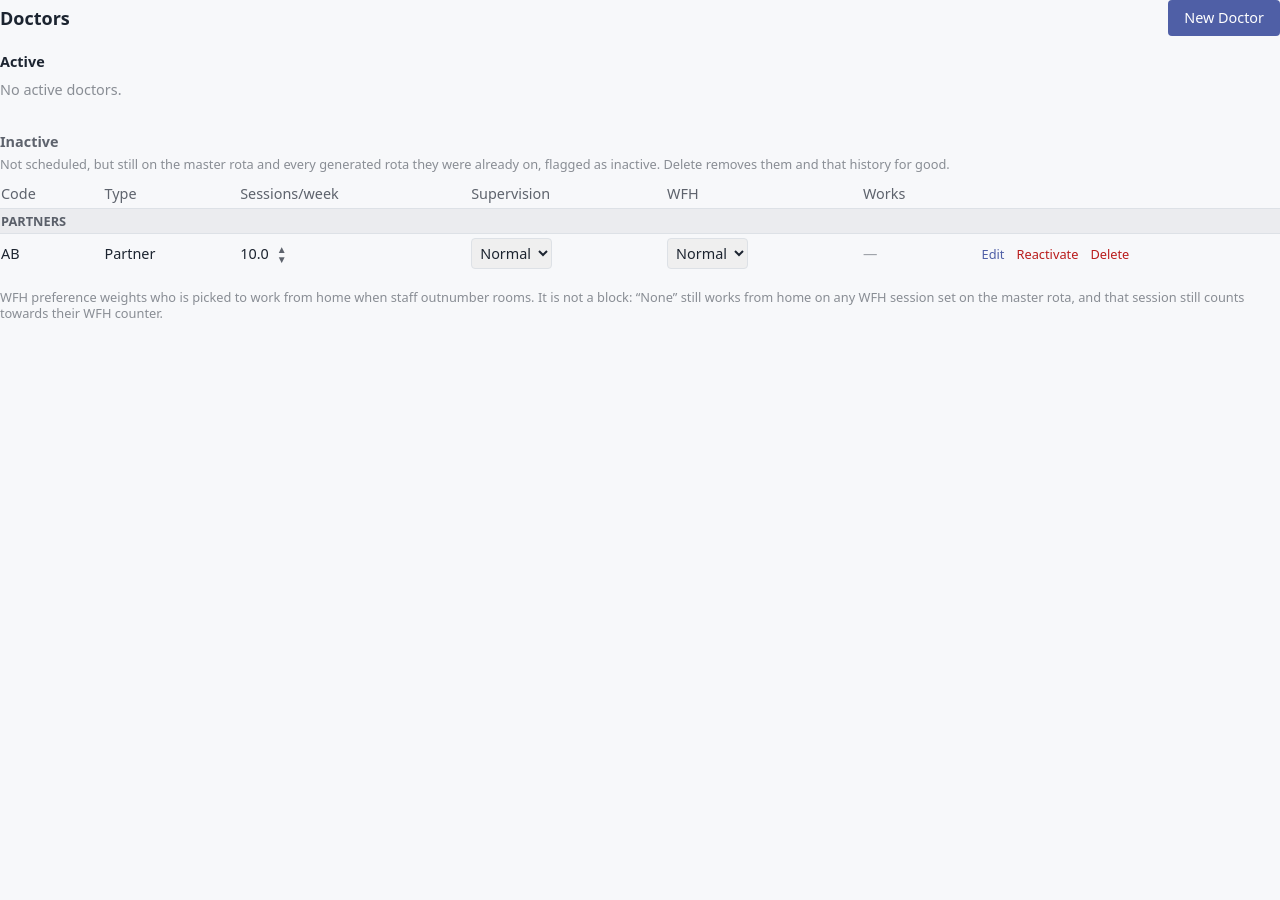
Test case: DoctorsPage › permanent delete › purges the doctor once the code is typed, and the row disappears
Expected: the text "AB" is shown, x1=0 y1=234 x2=104 y2=273
Click the button "Delete" at coordinates (1110, 254), box x1=1090 y1=246 x2=1129 y2=262
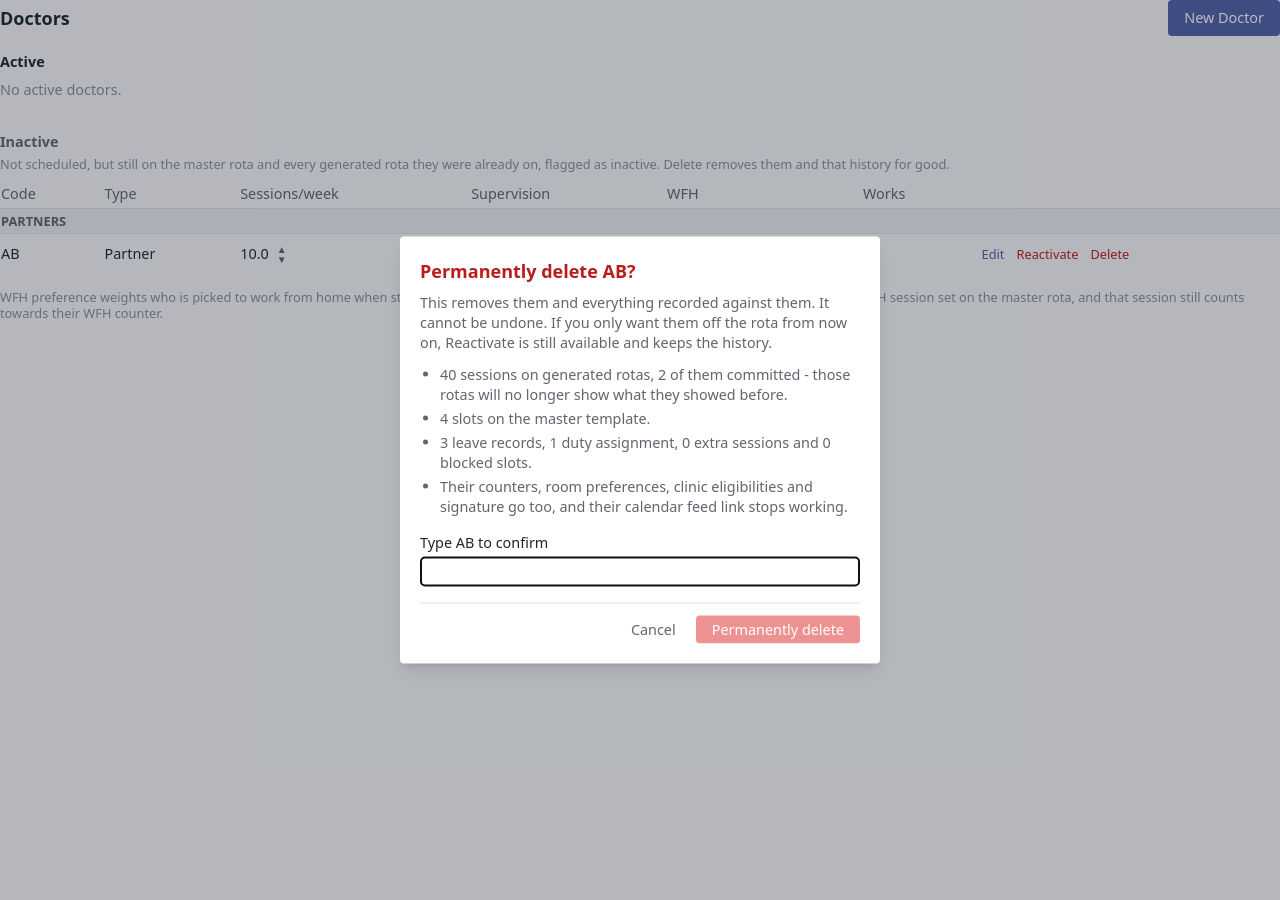
Expected: the button "Permanently delete" is disabled, x1=696 y1=616 x2=860 y2=644
# A near-miss is still disabled: the typed code proves *which* row.
Type "ab" into the field labelled "Type AB to confirm" at coordinates (640, 572), box x1=420 y1=556 x2=860 y2=586
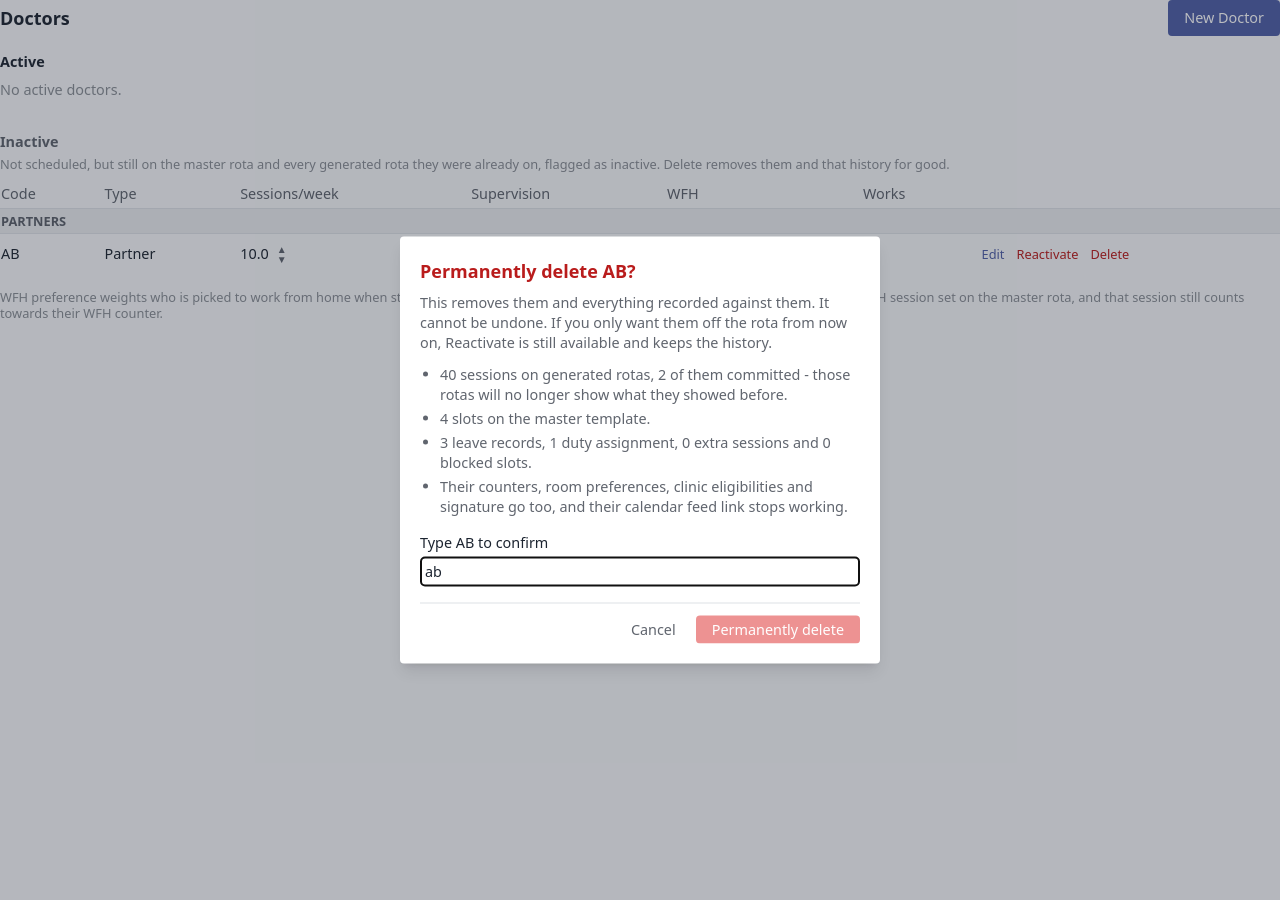
Expected: the button "Permanently delete" is disabled, x1=696 y1=616 x2=860 y2=644
Clear the field labelled "Type AB to confirm" at coordinates (640, 572), box x1=420 y1=556 x2=860 y2=586
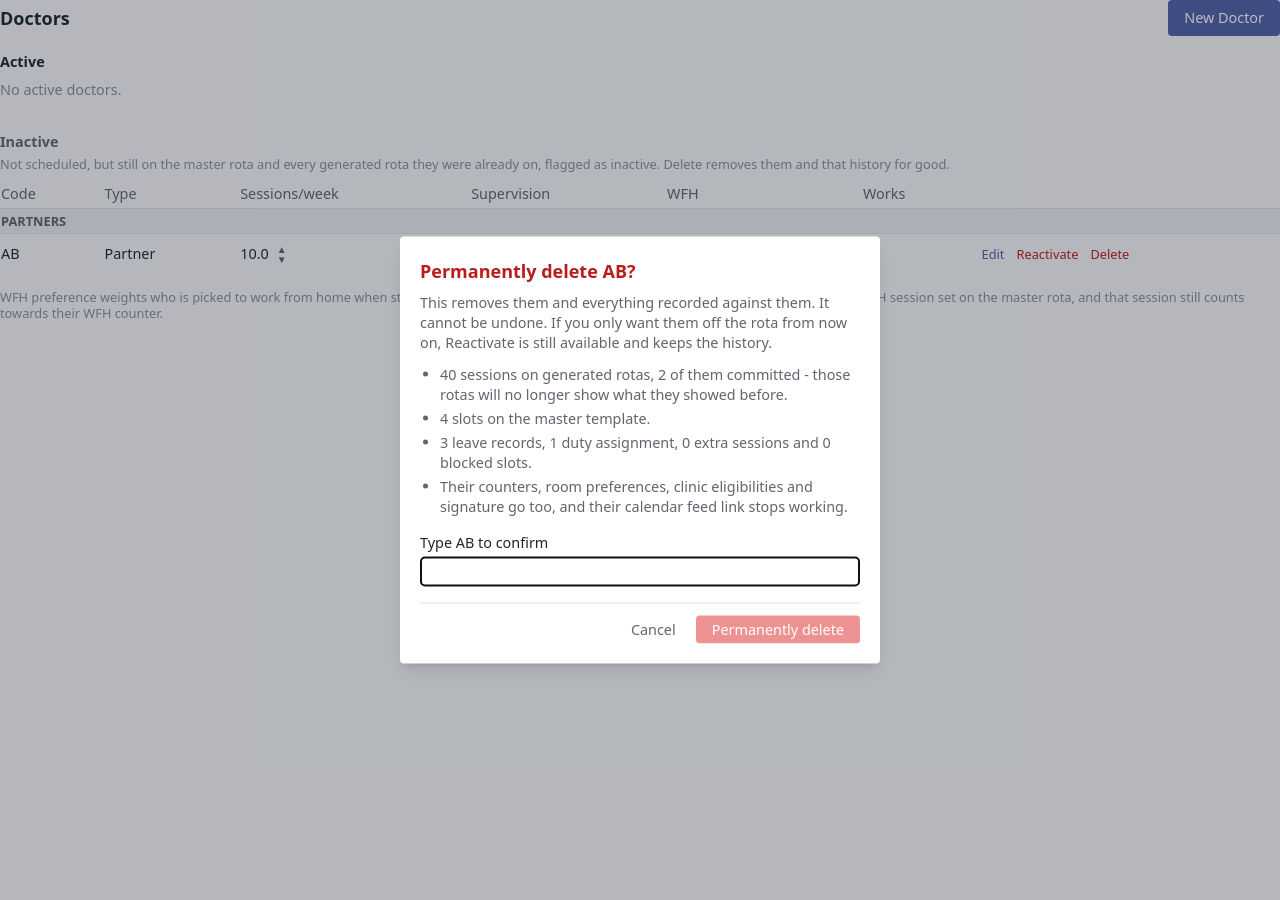
Expected: the list item "2 of them committed" is shown, x1=440 y1=364 x2=860 y2=404
Type "AB" into the field labelled "Type AB to confirm" at coordinates (640, 572), box x1=420 y1=556 x2=860 y2=586
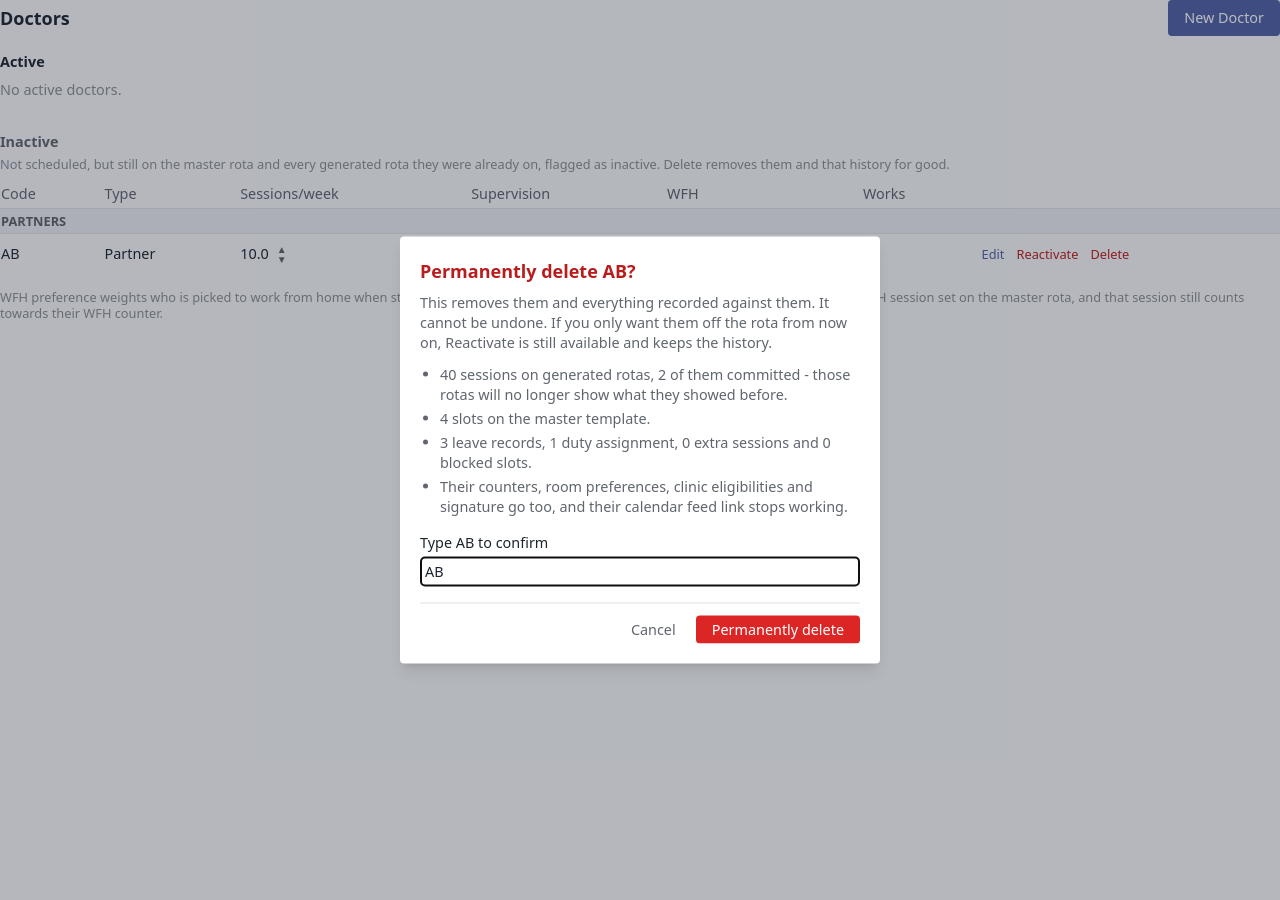
Click the button "Permanently delete" at coordinates (778, 630), box x1=696 y1=616 x2=860 y2=644
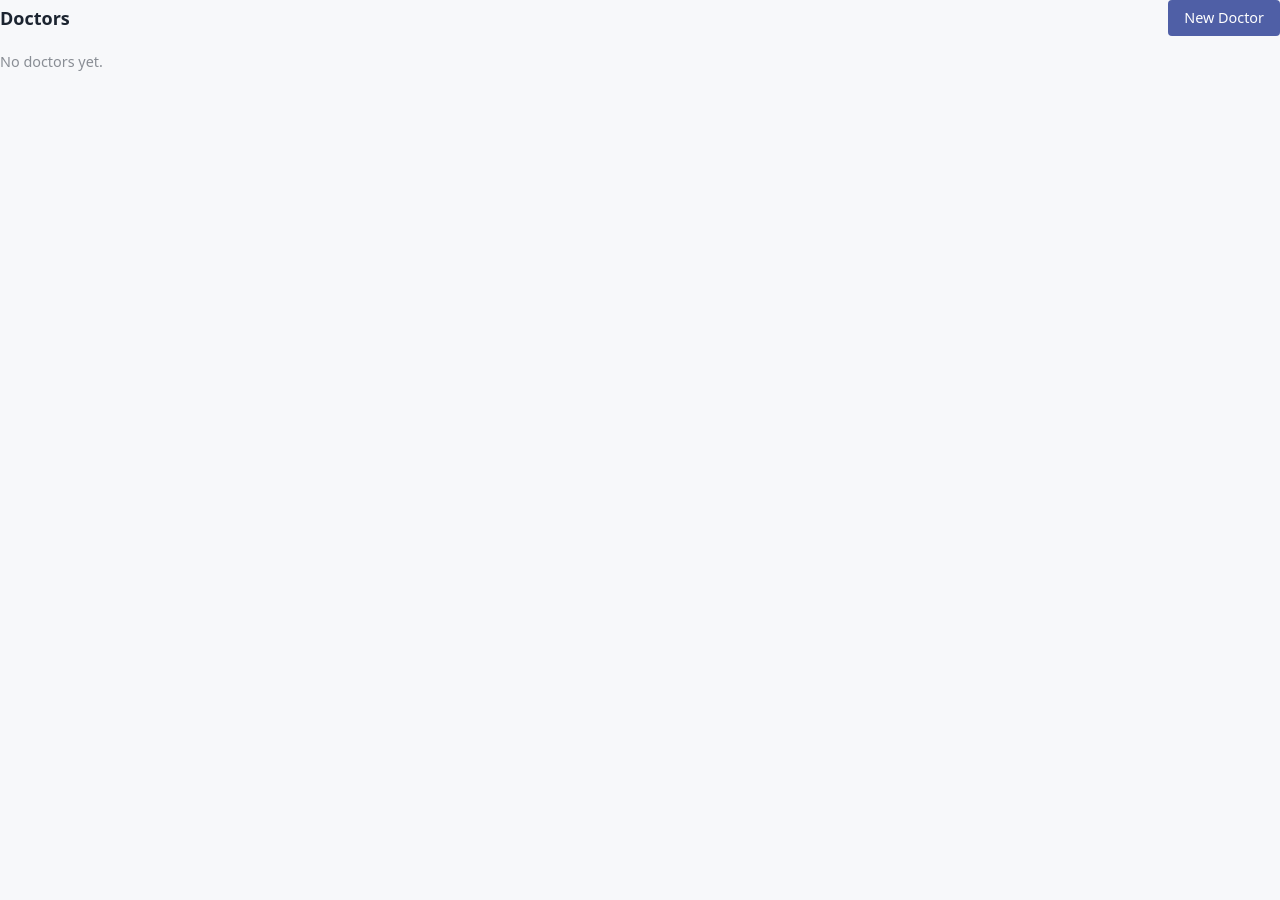
Expected: the text "No doctors yet." is shown, x1=0 y1=52 x2=103 y2=71
